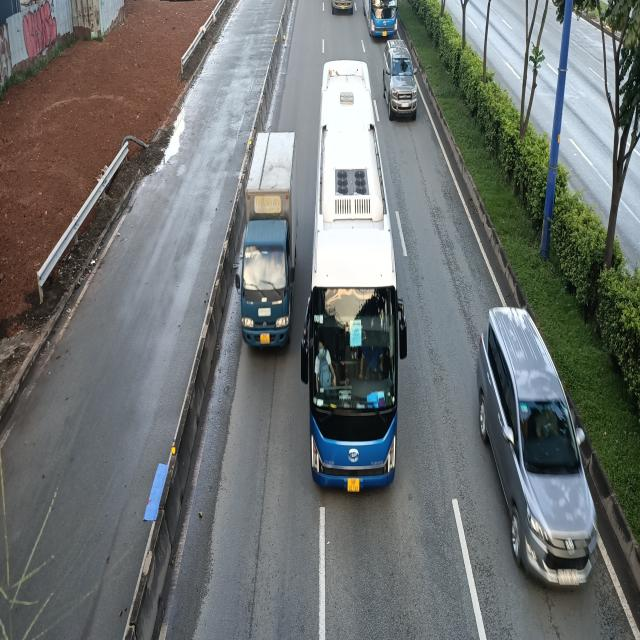car: (481, 308, 598, 587), (384, 38, 420, 118)
coach: (307, 65, 410, 491), (363, 0, 399, 38)
truck: (238, 128, 300, 350)
